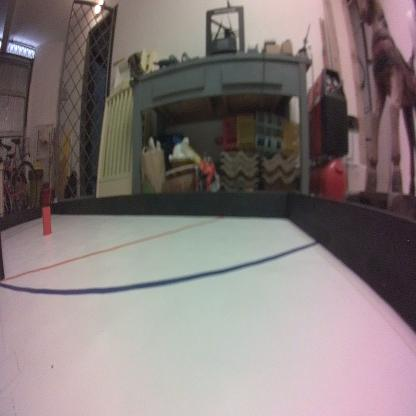red: (41, 204, 51, 237)
